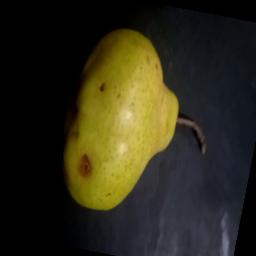Pear Unripe: (37, 0, 239, 239)
